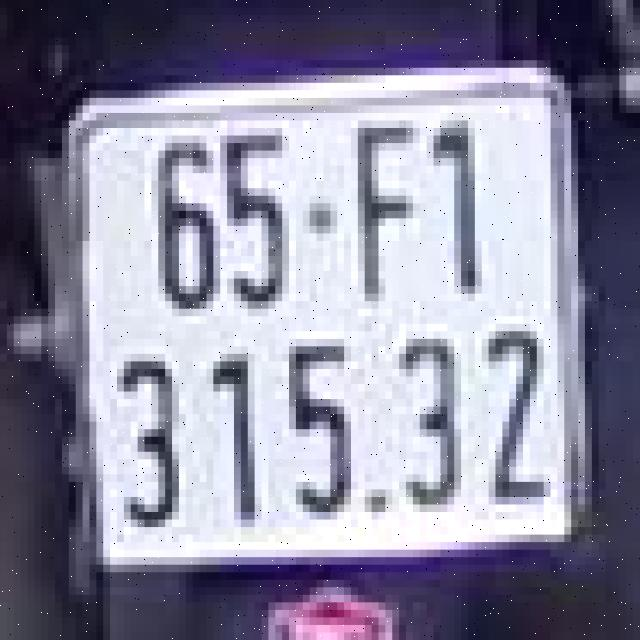1: (207, 346, 276, 542), (433, 113, 502, 301)
2: (475, 312, 564, 516)
3: (100, 350, 189, 538), (389, 320, 471, 516)
5: (279, 324, 368, 527), (217, 109, 299, 320)
6: (141, 120, 224, 324)
F: (337, 101, 434, 312)
